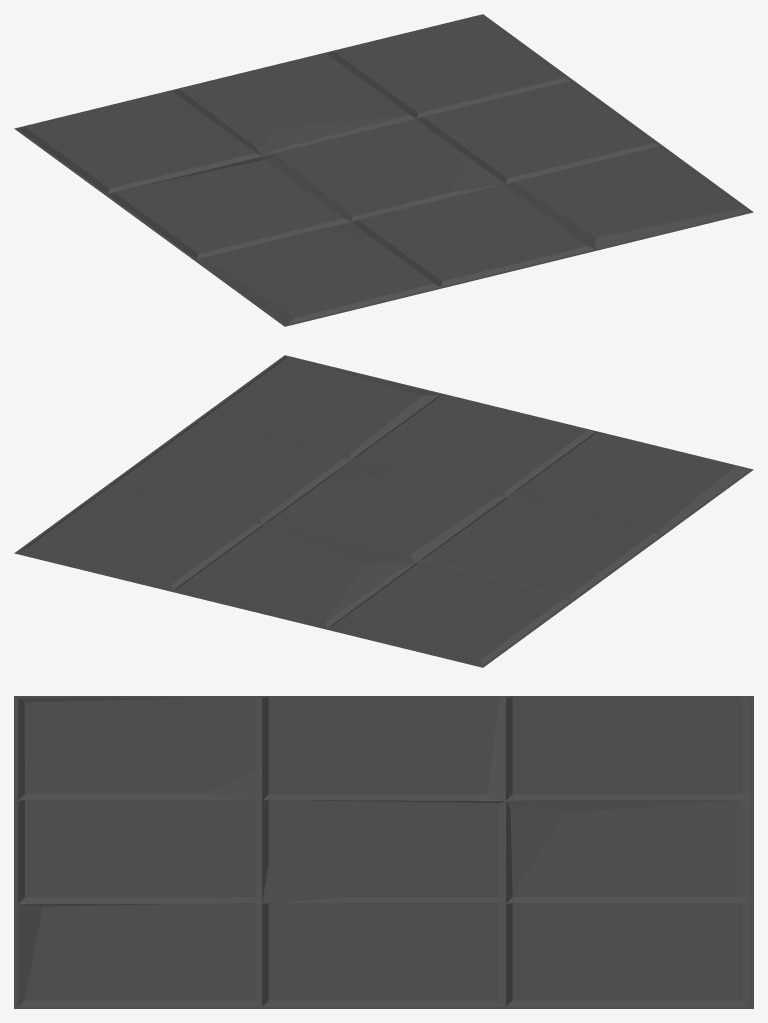
File: Floor_04.fbx
The picture shows the model from 3 angles, top to bottom: view 1: azimuth 30°, elevation 25°; view 2: azimuth 150°, elevation 25°; view 3: azimuth 270°, elevation 25°; orthographic projection. The views are drawn at different scales.
Parts seen in each view (by area): view 1: Floor_04; view 2: Floor_04; view 3: Floor_04.
Part boxes in pixels (left/top/right/bottom): Floor_04: left=14, top=14, right=753, bottom=326; Floor_04: left=14, top=355, right=753, bottom=667; Floor_04: left=14, top=696, right=753, bottom=1008.
Bounding box in the file's own units: 280 × 3.18 × 280.
